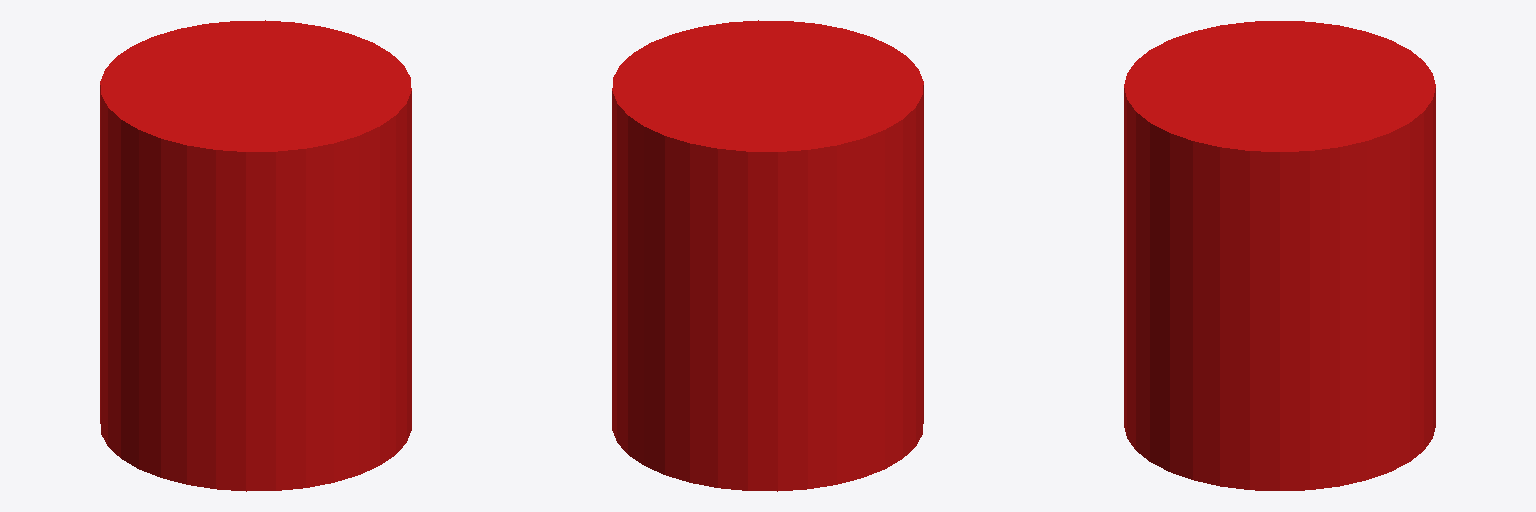
The robot description file, URDF, robot "red_cylinder":
<?xml version="1.0"?>
<robot name="red_cylinder">
  <link name="base_link">
    <contact>
      <lateral_friction value="0.9"/>
      <rolling_friction value="0.03"/>
      <spinning_friction value="0.03"/>
      <restitution value="0.0"/>
    </contact>
    <inertial>
      <origin rpy="0 0 0" xyz="0 0 0"/>
      <mass value="0.5"/>
      <inertia ixx="0.001" ixy="0" ixz="0" iyy="0.001" iyz="0" izz="0.001"/>
    </inertial>
    <visual>
      <origin rpy="0 0 0" xyz="0 0 0"/>
      <geometry>
        <cylinder radius="0.05" length="0.12"/>
      </geometry>
      <material name="red">
        <color rgba="0.850 0.120 0.120 1.000"/>
      </material>
    </visual>
    <collision>
      <origin rpy="0 0 0" xyz="0 0 0"/>
      <geometry>
        <cylinder radius="0.05" length="0.12"/>
      </geometry>
    </collision>
  </link>
</robot>

--- What the picture shows (computed from the rendered views, not written in the file) ---
The picture shows the robot from 3 angles, left to right: view 1: azimuth 30°, elevation 25°; view 2: azimuth 150°, elevation 25°; view 3: azimuth 270°, elevation 25°; orthographic projection.
Robot: red_cylinder — 1 links, 0 joints (none); root link base_link; default pose: every joint at zero.
Links seen in each view (by area): view 1: base_link; view 2: base_link; view 3: base_link.
Boxes of the visible links, x1,y1,x2,y2 form: base_link: (100, 20, 411, 491); base_link: (612, 20, 923, 491); base_link: (1124, 21, 1435, 490).
Size in the robot's own frame: 0.1 by 0.1 by 0.12 metres.
Geometry: primitives only (box / cylinder / sphere), no mesh files.
